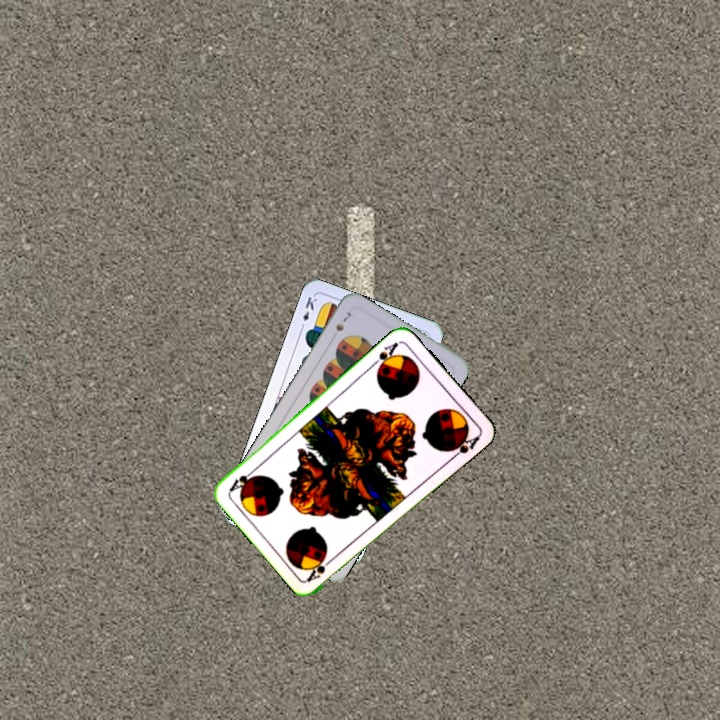EK: (296, 293, 320, 332)
S7: (332, 307, 355, 334)
SA: (368, 338, 401, 373), (303, 553, 338, 584)
